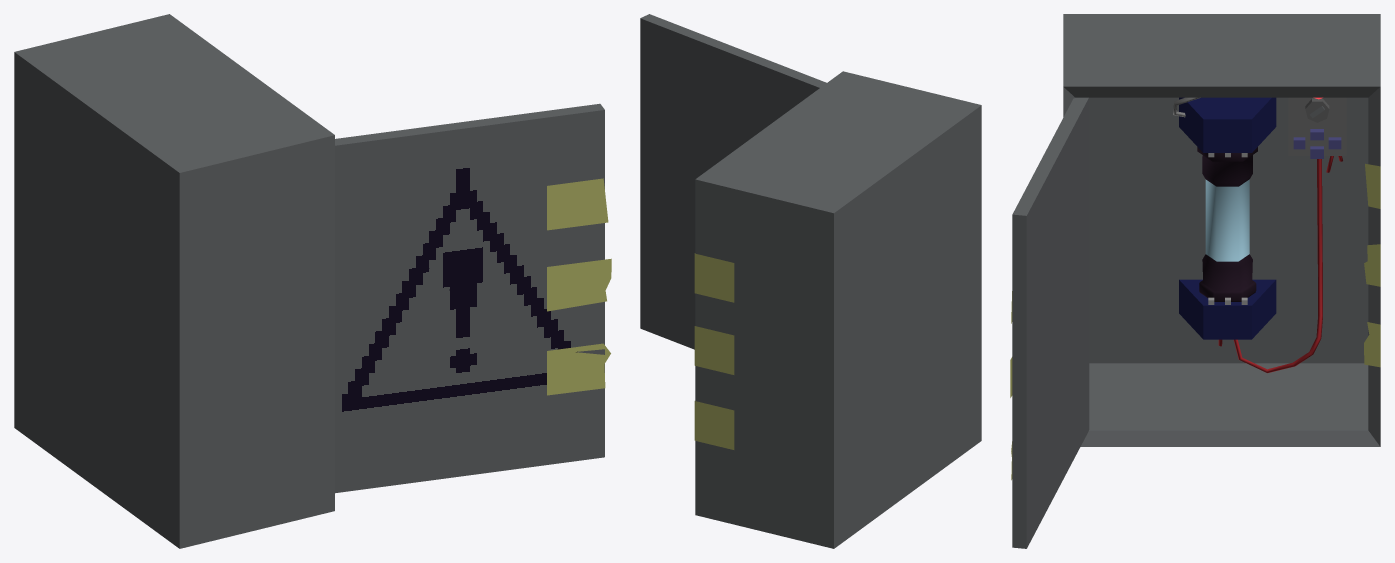
Rendered from CaixaAeComFusível.fbx.
The picture shows the model from 3 angles, left to right: view 1: azimuth 30°, elevation 25°; view 2: azimuth 150°, elevation 25°; view 3: azimuth 270°, elevation 25°; orthographic projection. The views are drawn at different scales.
Visible parts, largest first — view 1: Caixa aberta, Fita torada; view 2: Caixa aberta, Fita torada; view 3: Caixa aberta, BézierCurve, Fita torada.
Part boxes in pixels (left/top/right/bottom): Caixa aberta: left=14, top=14, right=604, bottom=548; Fita torada: left=547, top=178, right=611, bottom=395; Caixa aberta: left=640, top=14, right=981, bottom=548; Fita torada: left=694, top=253, right=734, bottom=449; Caixa aberta: left=1012, top=14, right=1380, bottom=548; BézierCurve: left=1173, top=97, right=1346, bottom=373; Fita torada: left=1010, top=163, right=1380, bottom=480.
Size of the model in its own units: 700 by 622 by 580.
